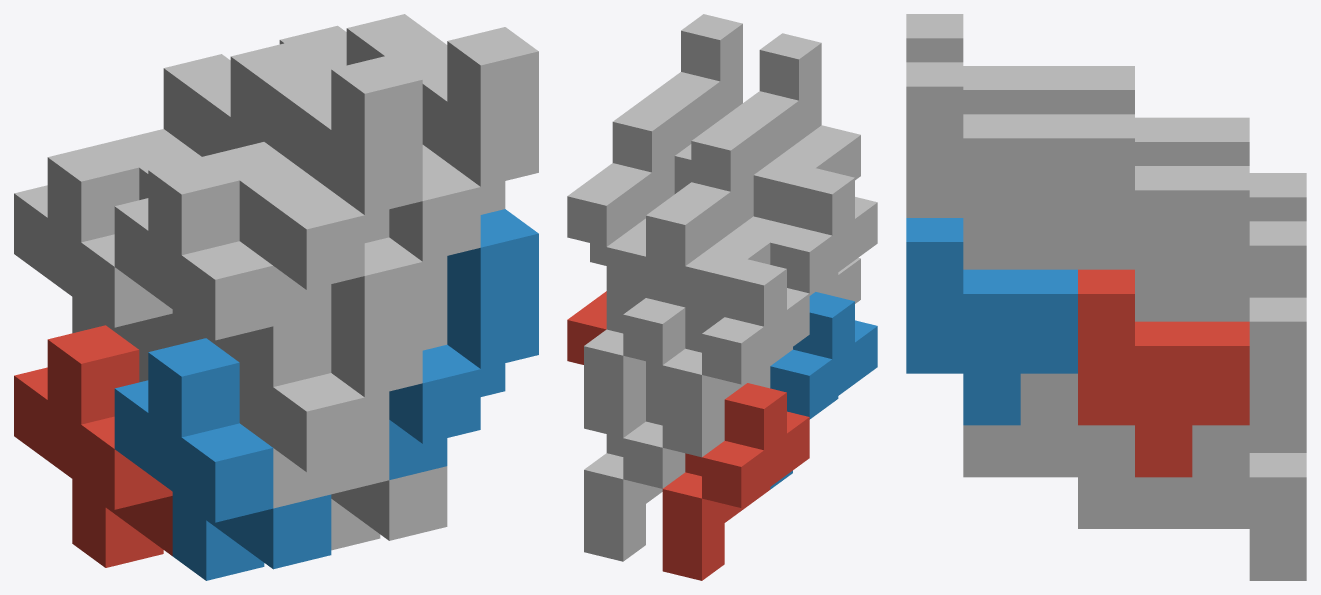
File: tiling.obj
3 views of the same model, side by side, from view 1: azimuth 30°, elevation 25°; view 2: azimuth 150°, elevation 25°; view 3: azimuth 270°, elevation 25° (orthographic). The views are drawn at different scales.
Visible parts, largest first — view 1: copy_2_domain_4, copy_1_domain_2, copy_1_domain_4, copy_2_domain_8, copy_2_domain_2, copy_1_domain_1, copy_2_domain_6, copy_1_domain_3, copy_2_domain_3, copy_1_domain_6, copy_2_domain_7, copy_1_domain_8; view 2: copy_1_domain_3, copy_1_domain_1, copy_2_domain_3, copy_2_domain_4, copy_2_domain_7, copy_1_domain_7, copy_1_domain_5, copy_1_domain_4, copy_2_domain_8, copy_1_domain_2, copy_2_domain_5, copy_2_domain_2 (+1 smaller); view 3: copy_2_domain_5, copy_2_domain_6, copy_2_domain_8, copy_2_domain_7, copy_1_domain_5, copy_1_domain_6, copy_1_domain_7, copy_2_domain_4, copy_2_domain_3, copy_1_domain_8, copy_1_domain_3.
Boxes of the visible parts, x1,y1,x2,y2 form: copy_2_domain_4: (206,55,422,326); copy_1_domain_2: (114,338,331,580); copy_1_domain_4: (114,156,331,386); copy_2_domain_8: (380,27,538,289); copy_2_domain_2: (239,237,422,508); copy_1_domain_1: (14,325,172,567); copy_2_domain_6: (389,209,538,479); copy_1_domain_3: (14,143,172,355); copy_2_domain_3: (106,42,321,199); copy_1_domain_6: (331,419,447,550); copy_2_domain_7: (279,14,437,72); copy_1_domain_8: (422,284,447,350); copy_1_domain_3: (662,259,809,457); copy_1_domain_1: (662,383,809,580); copy_2_domain_3: (646,124,792,316); copy_2_domain_4: (714,33,860,225); copy_2_domain_7: (567,105,674,297); copy_1_domain_7: (584,256,685,437); copy_1_domain_5: (584,380,685,561); copy_1_domain_4: (770,168,877,365); copy_2_domain_8: (636,14,742,193); copy_1_domain_2: (770,292,877,489); copy_2_domain_5: (567,291,606,364); copy_2_domain_2: (816,258,860,303); copy_2_domain_5: (1078,269,1249,477); copy_2_domain_6: (906,218,1077,425); copy_2_domain_8: (906,62,1077,269); copy_2_domain_7: (1078,114,1249,321); copy_1_domain_5: (1135,425,1306,580); copy_1_domain_6: (963,373,1134,528); copy_1_domain_7: (1192,221,1306,425); copy_2_domain_4: (906,14,1077,114); copy_2_domain_3: (1078,66,1249,165); copy_1_domain_8: (1020,218,1077,269); copy_1_domain_3: (1249,173,1306,221).
Size of the model in its own units: 5 by 10 by 7.
